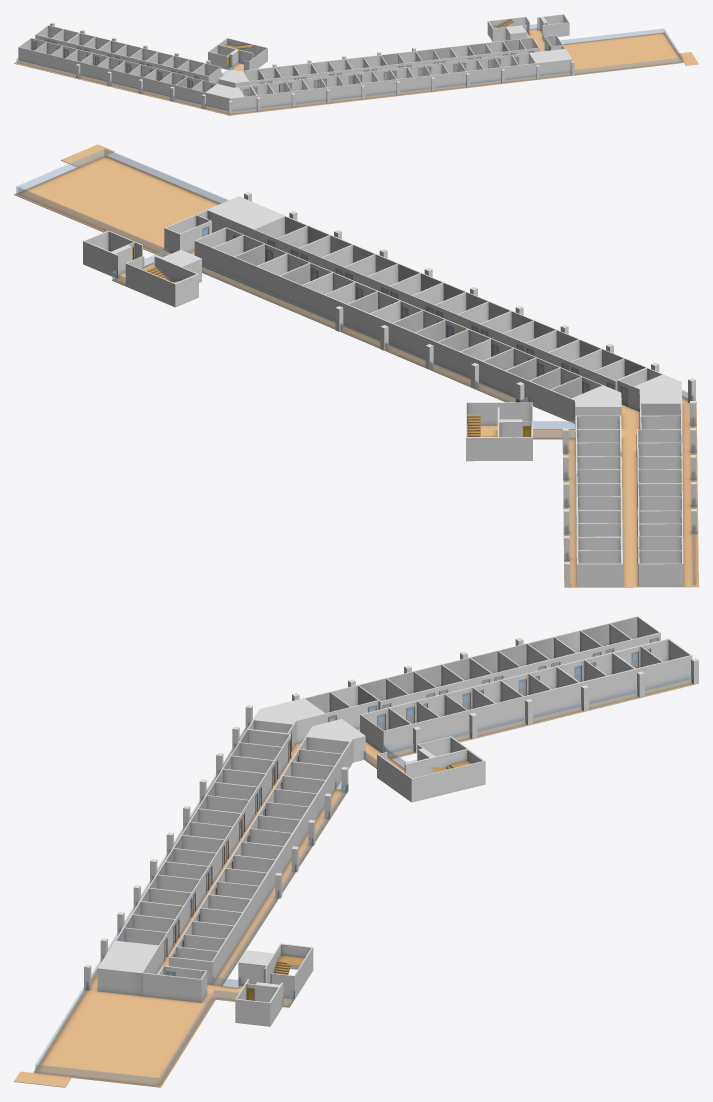
File: COM2_L3.dae
The picture shows the model from 3 angles, top to bottom: view 1: azimuth 30°, elevation 25°; view 2: azimuth 150°, elevation 25°; view 3: azimuth 270°, elevation 25°; orthographic projection. The views are drawn at different scales.
Parts seen in each view (by area): view 1: COM2_L3_Zone6, COM2_L3_Floor, COM2_L3_Zone1, COM2_L3_Zone5, Cap_2 (×5), COM2_L3_LowWall, COM2_L3_Zone2, COM2_L3_Misc, COM2_L3_Doors, COM2_L3_Pillars, COM2_L3_FloorSide, COM2_L3_PillarsTop (+1 smaller); view 2: COM2_L3_Floor, COM2_L3_Zone5, COM2_L3_Zone6, Cap_2 (×5), COM2_L3_Zone1, COM2_L3_Zone2, COM2_L3_Misc, COM2_L3_LowWall, COM2_L3_Pillars, COM2_L3_Doors, COM2_L3_FloorSide; view 3: COM2_L3_Floor, COM2_L3_Zone5, COM2_L3_Zone6, COM2_L3_Zone2, Cap_2 (×5), COM2_L3_Zone1, COM2_L3_Misc, COM2_L3_LowWall, COM2_L3_Pillars, COM2_L3_Doors, COM2_L3_FloorSide, COM2_L3_LowWallTop.
Boxes of the visible parts, x1,y1,x2,y2 form: COM2_L3_Zone6: (251,53,572,107); COM2_L3_Floor: (14,28,698,115); COM2_L3_Zone1: (18,38,256,110); COM2_L3_Zone5: (218,35,564,87); Cap_2 (×5): (19,14,571,98); COM2_L3_LowWall: (16,24,682,113); COM2_L3_Zone2: (35,25,221,83); COM2_L3_Misc: (208,14,569,70); COM2_L3_Doors: (32,39,550,96); COM2_L3_Pillars: (50,23,574,114); COM2_L3_FloorSide: (14,35,698,115); COM2_L3_PillarsTop: (50,22,574,102); COM2_L3_Floor: (14,144,698,586); COM2_L3_Zone5: (164,210,621,429); COM2_L3_Zone6: (207,210,645,390); Cap_2 (×5): (83,196,683,564); COM2_L3_Zone1: (617,368,683,586); COM2_L3_Zone2: (575,416,622,586); COM2_L3_Misc: (83,231,532,460); COM2_L3_LowWall: (16,149,694,584); COM2_L3_Pillars: (244,193,696,586); COM2_L3_Doors: (132,226,640,585); COM2_L3_FloorSide: (14,151,698,587); COM2_L3_Floor: (14,679,693,1087); COM2_L3_Zone5: (142,736,365,1002); COM2_L3_Zone6: (97,730,291,996); COM2_L3_Zone2: (360,639,692,753); Cap_2 (×5): (98,616,691,1003); COM2_L3_Zone1: (248,617,660,750); COM2_L3_Misc: (235,737,485,1026); COM2_L3_LowWall: (35,675,692,1085); COM2_L3_Pillars: (84,639,698,990); COM2_L3_Doors: (164,637,658,1000); COM2_L3_FloorSide: (14,683,698,1087); COM2_L3_LowWallTop: (36,680,671,1077).
Size of the model in its own units: 141 by 3.42 by 90.
Materials: 13 (10 with a texture image).
